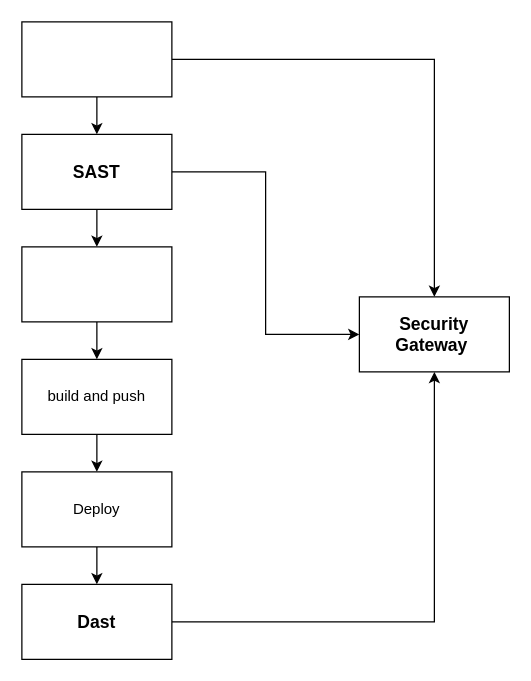
Image size: 531x681. Some labels were removed from this diagram. The shapes that lost their labels are listed below. From the top down, each one's centre as x and y in pixels, then its label:
At (96,59): "Security Checks".
At (96,284): "Tests".
